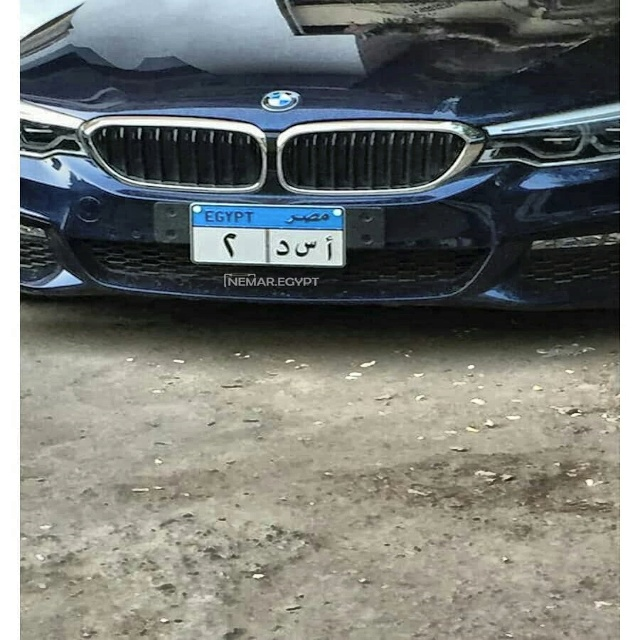License Plate: (185, 201, 349, 270)
